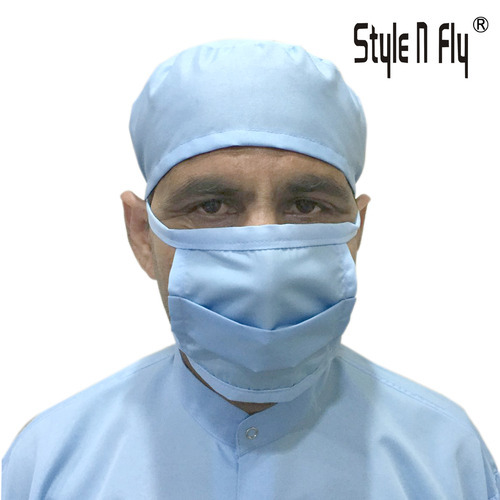with_mask_and_cap: (130, 58, 367, 401)
